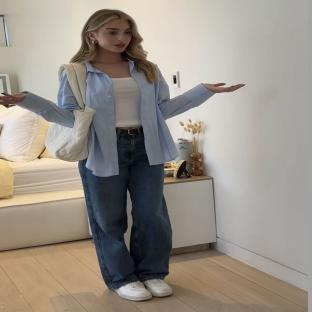Human: (70, 9, 244, 301), (0, 71, 79, 130)
